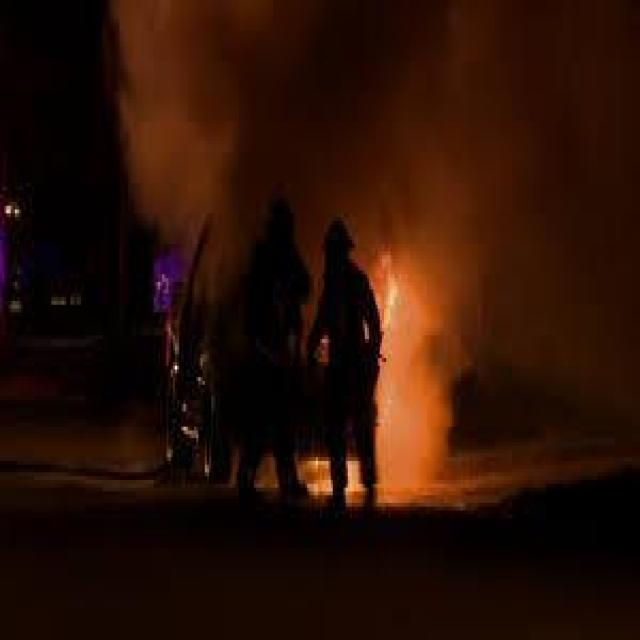fire: (372, 260, 426, 507)
